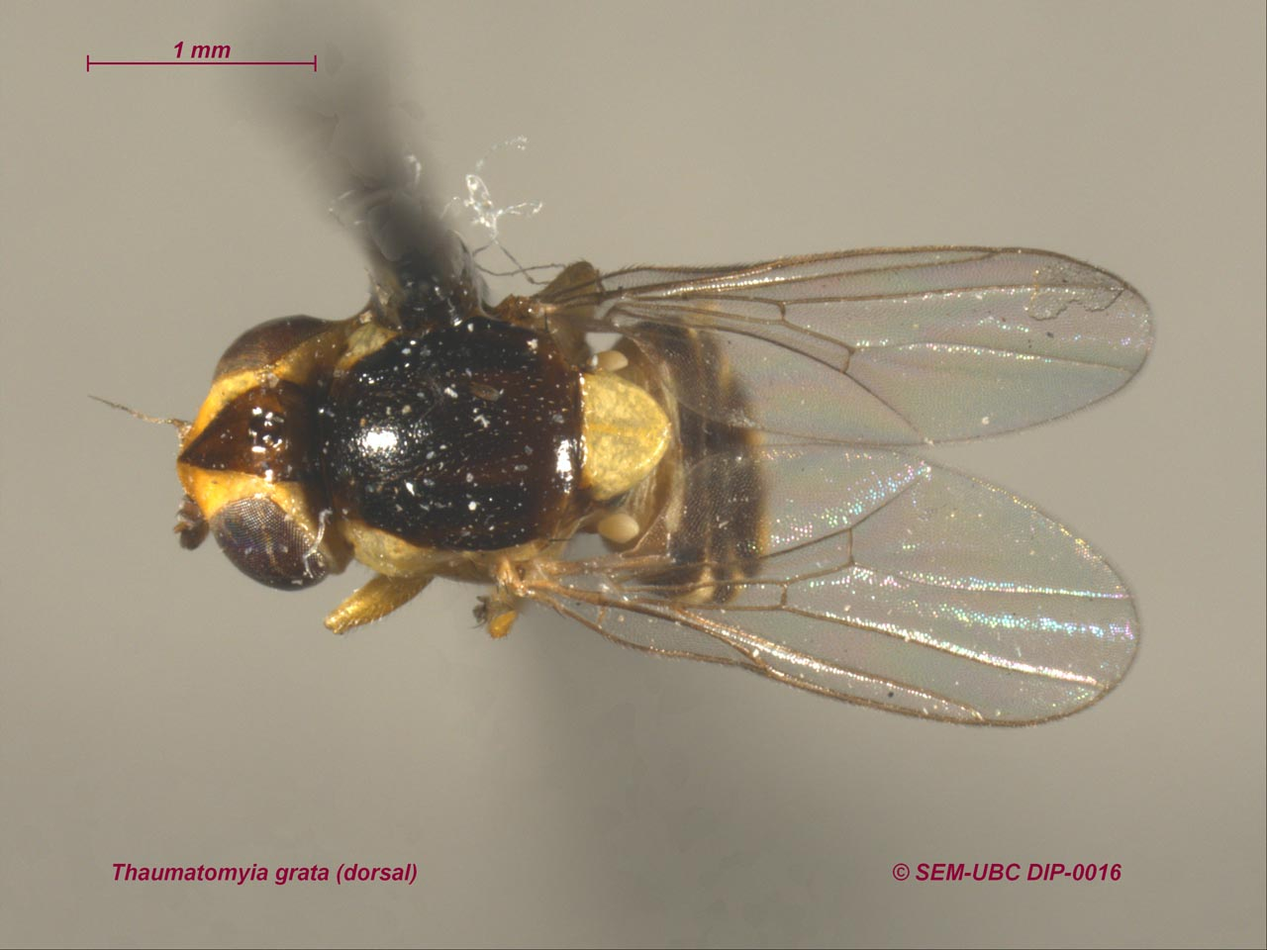Chloropidae: (87, 190, 1167, 729)
